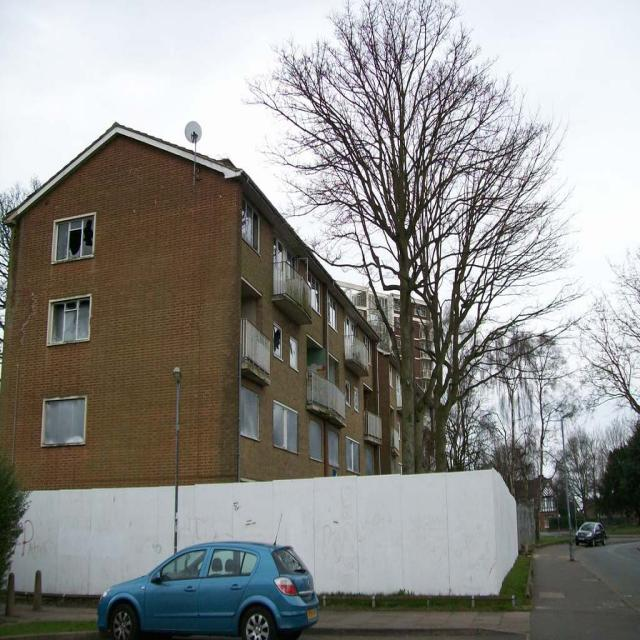car: (576, 519, 605, 546)
